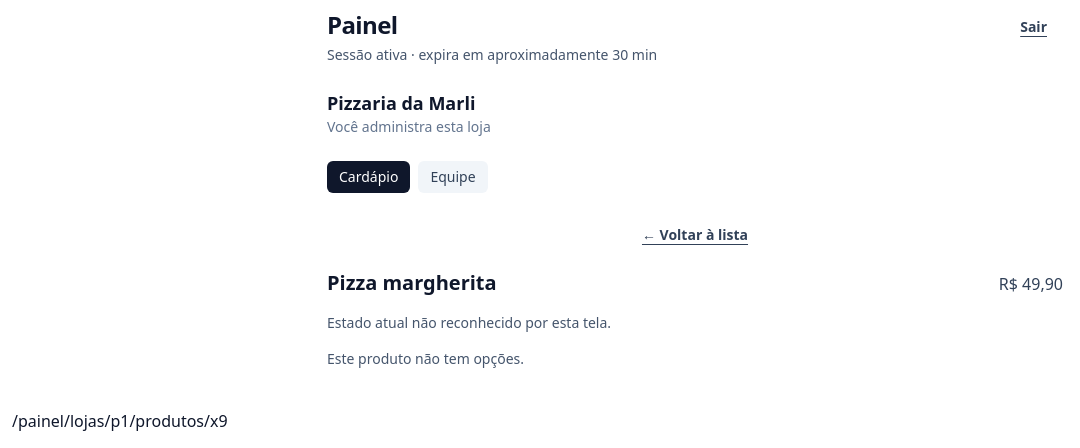
Test: PainelPage › C11 · /painel/lojas/:id/produtos/:produtoId abre o produto, e voltar volta à lista
The width and height of the screenshot is (1080, 448).
Check: the heading "Pizza margherita" is shown, box left=327, top=269, right=497, bottom=297
Click the button "← Voltar à lista".
click(695, 235)  # box left=327, top=217, right=1063, bottom=253
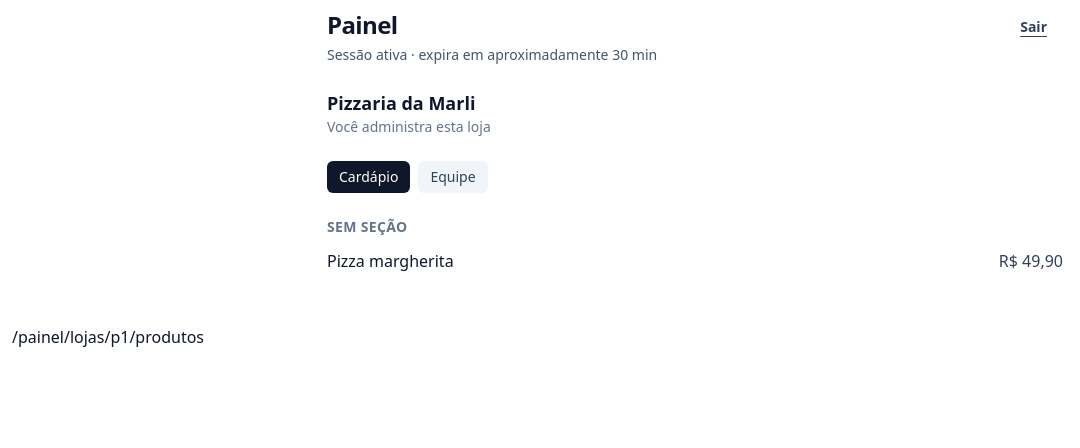
Check: the text with test id "onde-estou" reads "/painel/lojas/p1/produtos", box left=12, top=326, right=204, bottom=348
